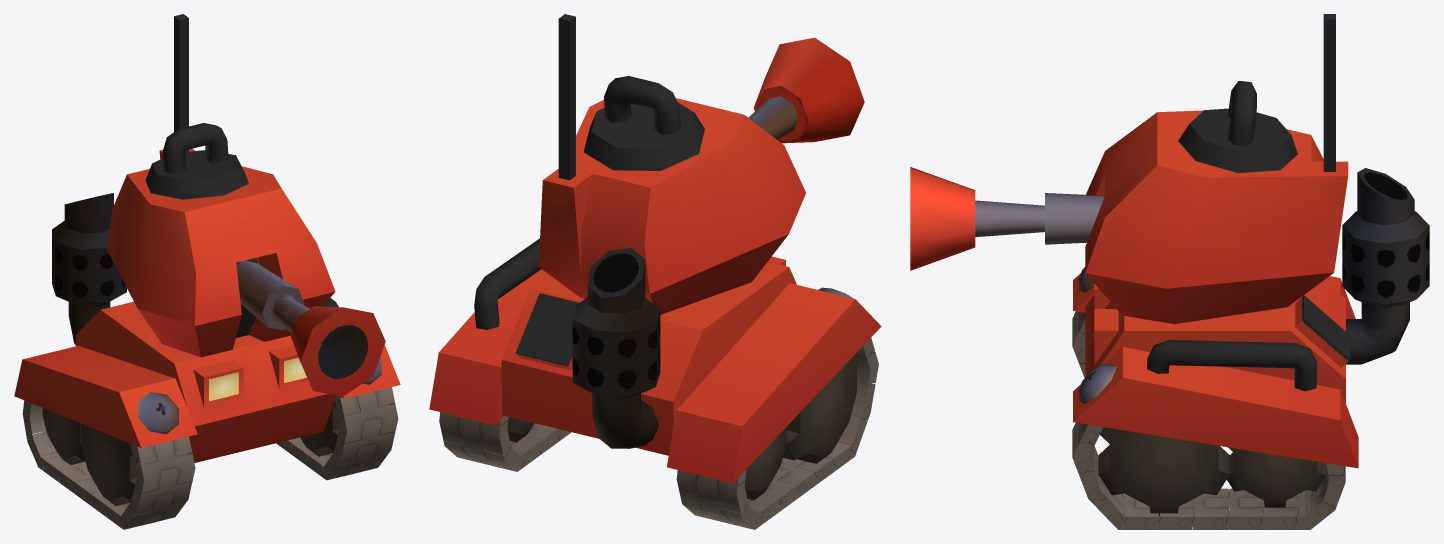
File: mini_tank.fbx
3 renders of one model, left to right at view 1: azimuth 30°, elevation 25°; view 2: azimuth 150°, elevation 25°; view 3: azimuth 270°, elevation 25°, orthographic. The views are drawn at different scales.
Parts seen in each view (by area): view 1: Body, Head, Trail, barrel, Tailpipe, cap, R_front_wheel, Circle, Antena, R_back_wheel, L_front_wheel; view 2: Body, Head, Tailpipe, Trail, barrel, cap, R_front_wheel, Antena, Circle, Pipe, R_back_wheel; view 3: Head, Body, Tailpipe, Trail, barrel, L_front_wheel, cap, Pipe, L_back_wheel, Antena, Circle.
Boxes of the visible parts, left/top/right/bottom form: Body: left=14, top=301, right=400, bottom=462; Head: left=107, top=148, right=335, bottom=357; Trail: left=22, top=387, right=398, bottom=529; barrel: left=236, top=260, right=385, bottom=396; Tailpipe: left=52, top=193, right=126, bottom=345; cap: left=145, top=150, right=248, bottom=199; R_front_wheel: left=81, top=424, right=137, bottom=506; Circle: left=162, top=123, right=228, bottom=173; Antena: left=174, top=14, right=188, bottom=151; R_back_wheel: left=42, top=408, right=85, bottom=464; L_front_wheel: left=300, top=401, right=339, bottom=456; Body: left=429, top=256, right=881, bottom=483; Head: left=538, top=98, right=805, bottom=314; Tailpipe: left=572, top=248, right=660, bottom=448; Trail: left=439, top=338, right=878, bottom=529; barrel: left=744, top=37, right=864, bottom=143; cap: left=584, top=102, right=704, bottom=170; R_front_wheel: left=783, top=354, right=856, bottom=463; Antena: left=558, top=14, right=575, bottom=180; Circle: left=604, top=76, right=680, bottom=134; Pipe: left=474, top=238, right=540, bottom=329; R_back_wheel: left=745, top=427, right=786, bottom=500; Head: left=1085, top=110, right=1348, bottom=324; Body: left=1073, top=267, right=1358, bottom=468; Tailpipe: left=1342, top=168, right=1429, bottom=364; Trail: left=1072, top=311, right=1345, bottom=529; barrel: left=910, top=167, right=1104, bottom=270; L_front_wheel: left=1098, top=427, right=1229, bottom=515; cap: left=1178, top=108, right=1297, bottom=172; Pipe: left=1147, top=340, right=1316, bottom=391; L_back_wheel: left=1227, top=447, right=1326, bottom=507; Antena: left=1323, top=14, right=1335, bottom=171; Circle: left=1228, top=81, right=1256, bottom=146.
Size of the model in its own units: 2.14 by 3.2 by 3.3.
Materials: 2 (2 with a texture image).
